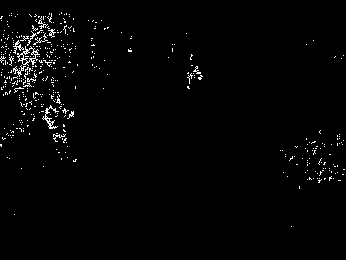person: (44, 96, 75, 165)
